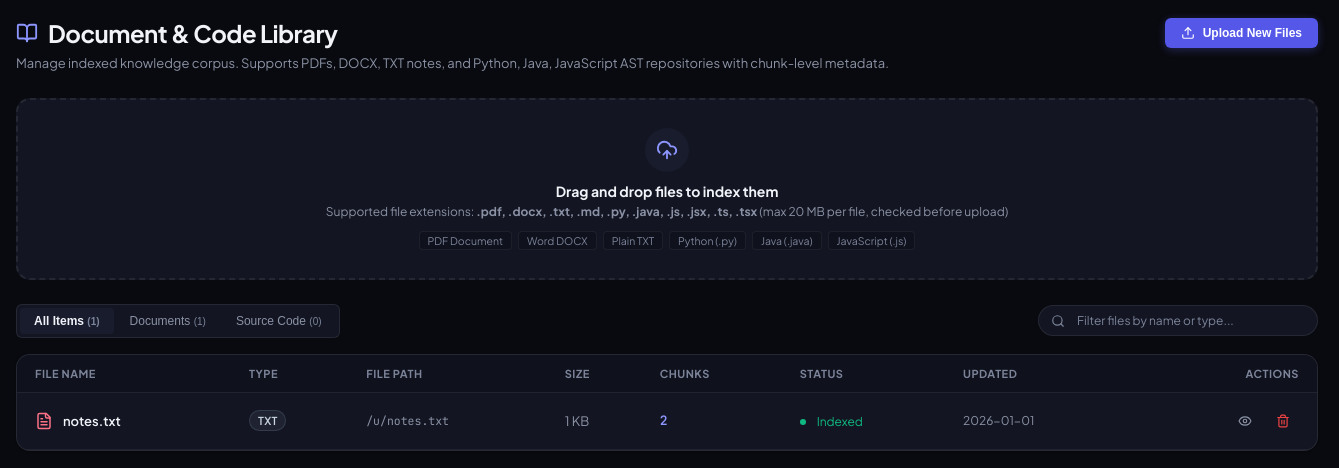
LibraryView › can cancel a pending delete
The image size is (1339, 468).
What coordinates should you click on to do the following:
click the button named "Delete notes.txt"
I would click on:
 (1283, 420)
Its box is 1267,404 -> 1299,436.
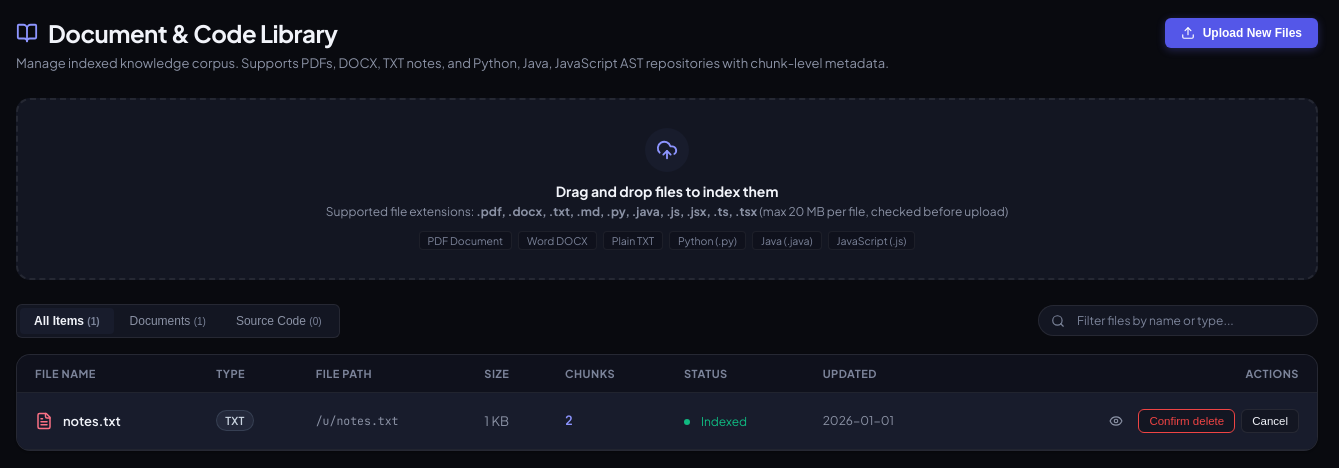
What coordinates should you click on to do the following:
click the button "Cancel"
I would click on:
 (1270, 420)
Its box is 1241,408 -> 1299,432.
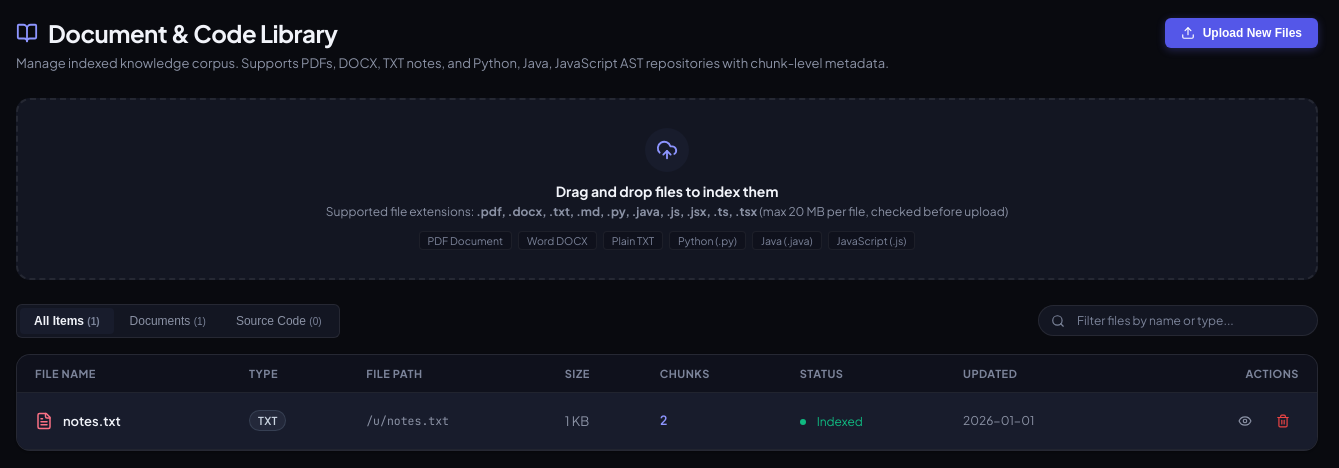
Expected: the button named "Delete notes.txt" is shown, 1267,404 -> 1299,436
